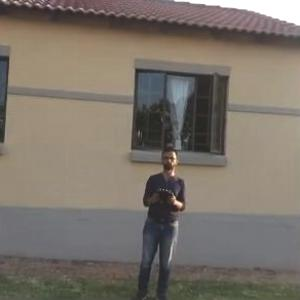follow: (132, 141, 190, 299)
